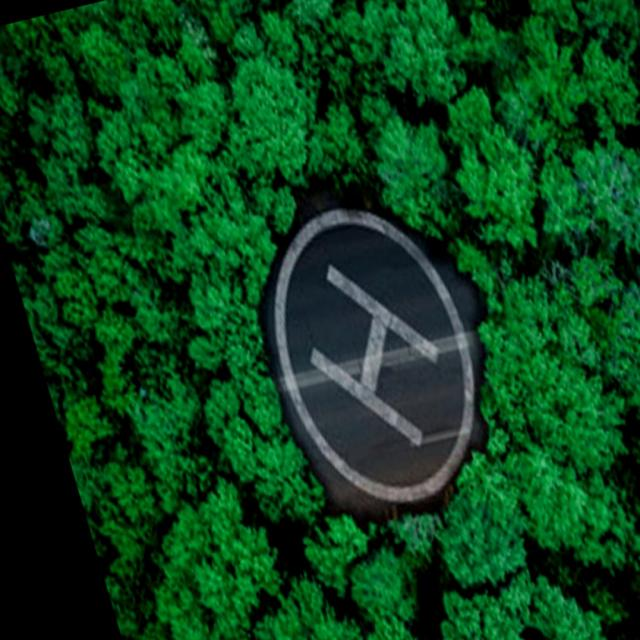helipad: (262, 202, 480, 507)
